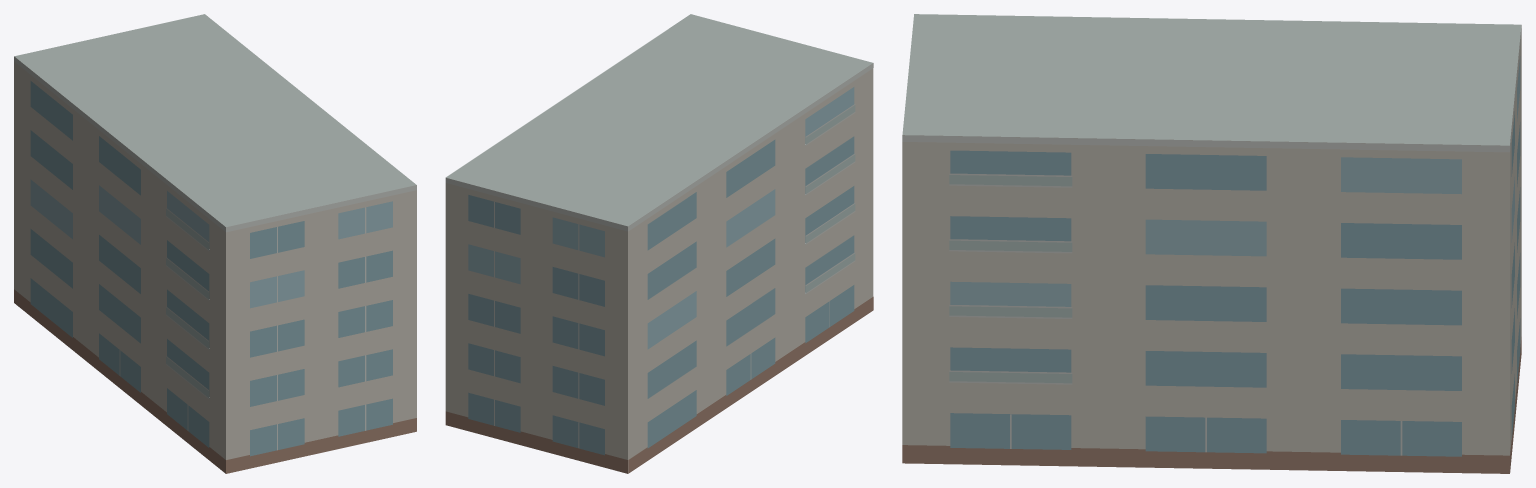
The model's file is survey-upis-32657684.glb.
3 renders of one model, left to right at view 1: azimuth 30°, elevation 25°; view 2: azimuth 150°, elevation 25°; view 3: azimuth 270°, elevation 25°, orthographic. The views are drawn at different scales.
Parts seen in each view (by area): view 1: survey-upis-32657684.tmp; view 2: survey-upis-32657684.tmp; view 3: survey-upis-32657684.tmp.
Boxes of the visible parts, x1,y1,x2,y2 form: survey-upis-32657684.tmp: (14,14,416,473); survey-upis-32657684.tmp: (445,14,873,473); survey-upis-32657684.tmp: (902,14,1521,473).
Size of the model in its own units: 10.11 by 11.75 by 20.1.
